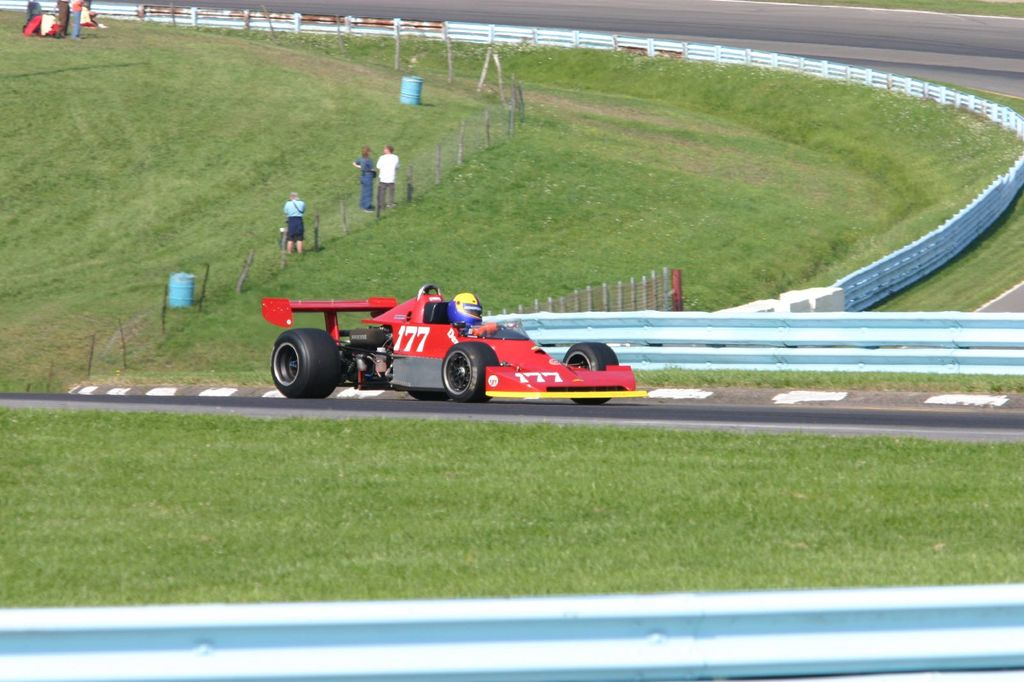Car: (259, 282, 643, 408)
